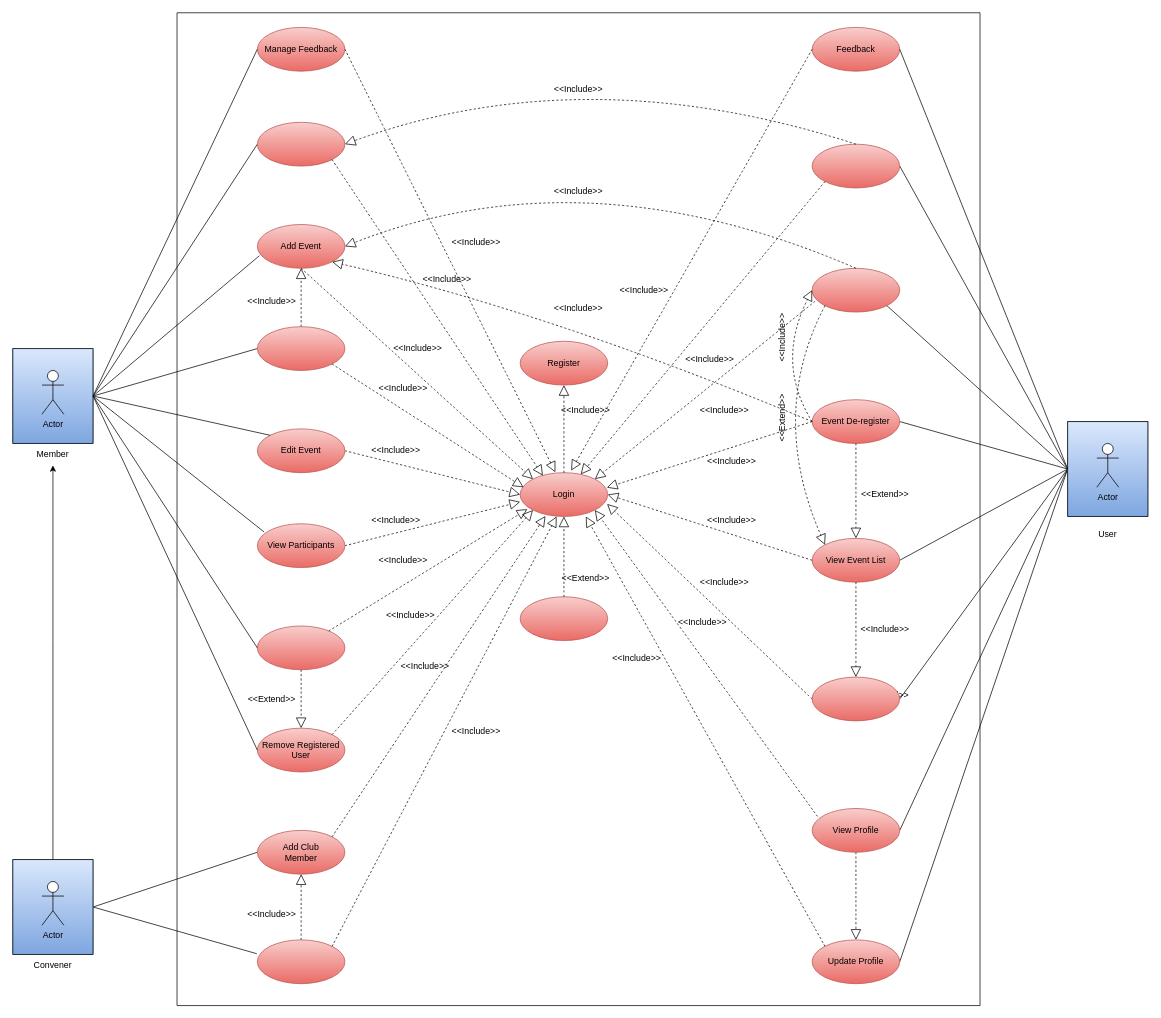
The diagram is 1161 pixels wide and 1018 high, and some of its shapes have lost their labels. The centre of each missing label's shape, as x and y in pixels:
Delete Event: the point at 301,348
Event Register: the point at 855,290
Forgot Password: the point at 563,618
Manage Resources: the point at 301,144
Remove Club Member: the point at 301,961
Search Event: the point at 855,698
Track Registered Users: the point at 301,647
View Resources: the point at 855,165
